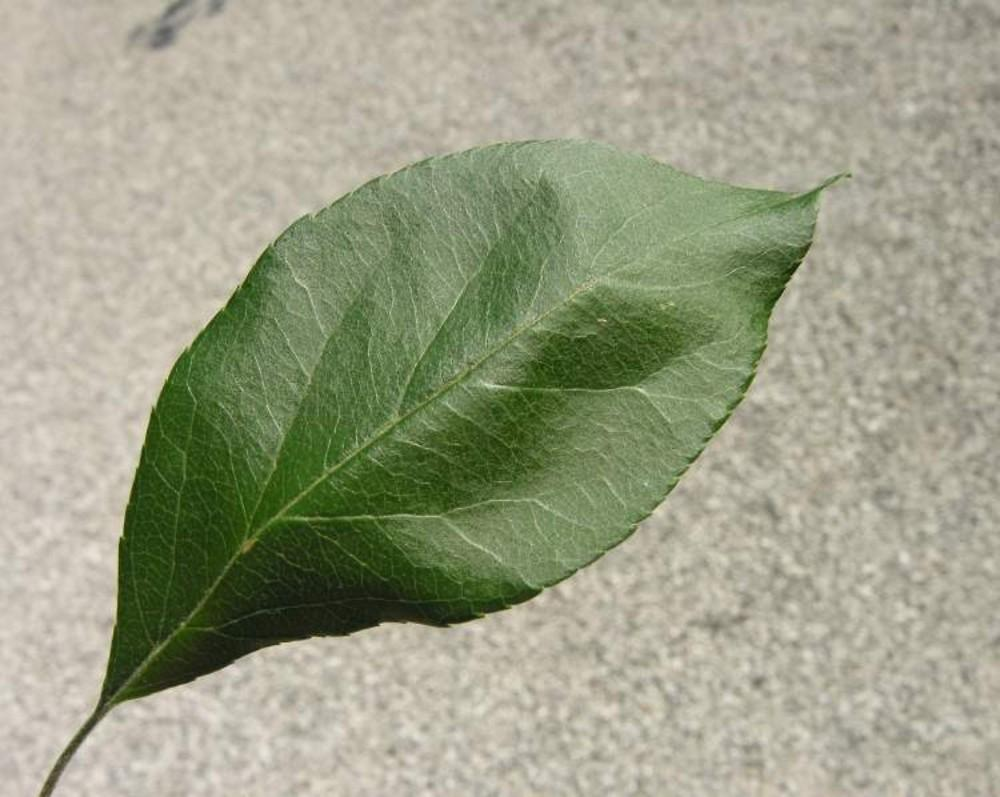Apple leaf: (71, 127, 874, 711)
